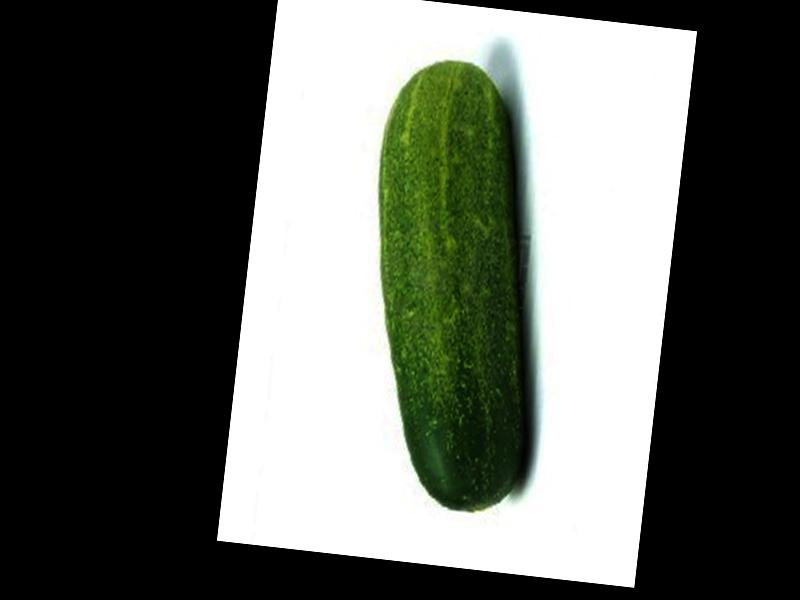Cucumber: (343, 54, 567, 515)
